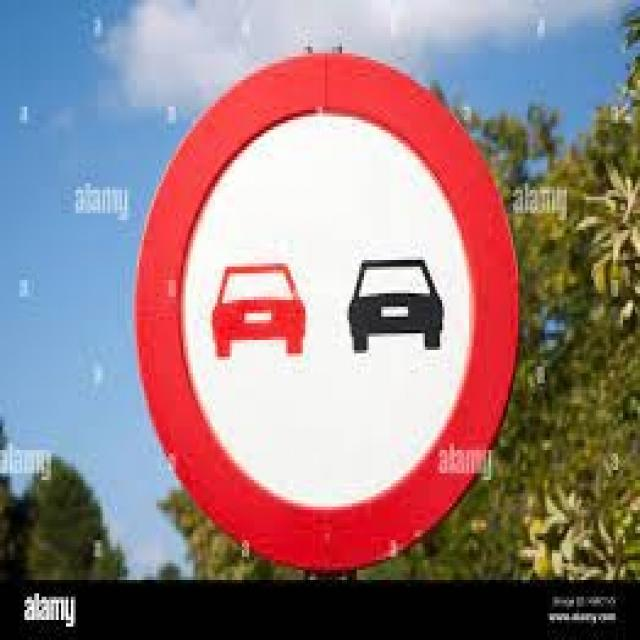no_passing: (131, 46, 522, 562)
